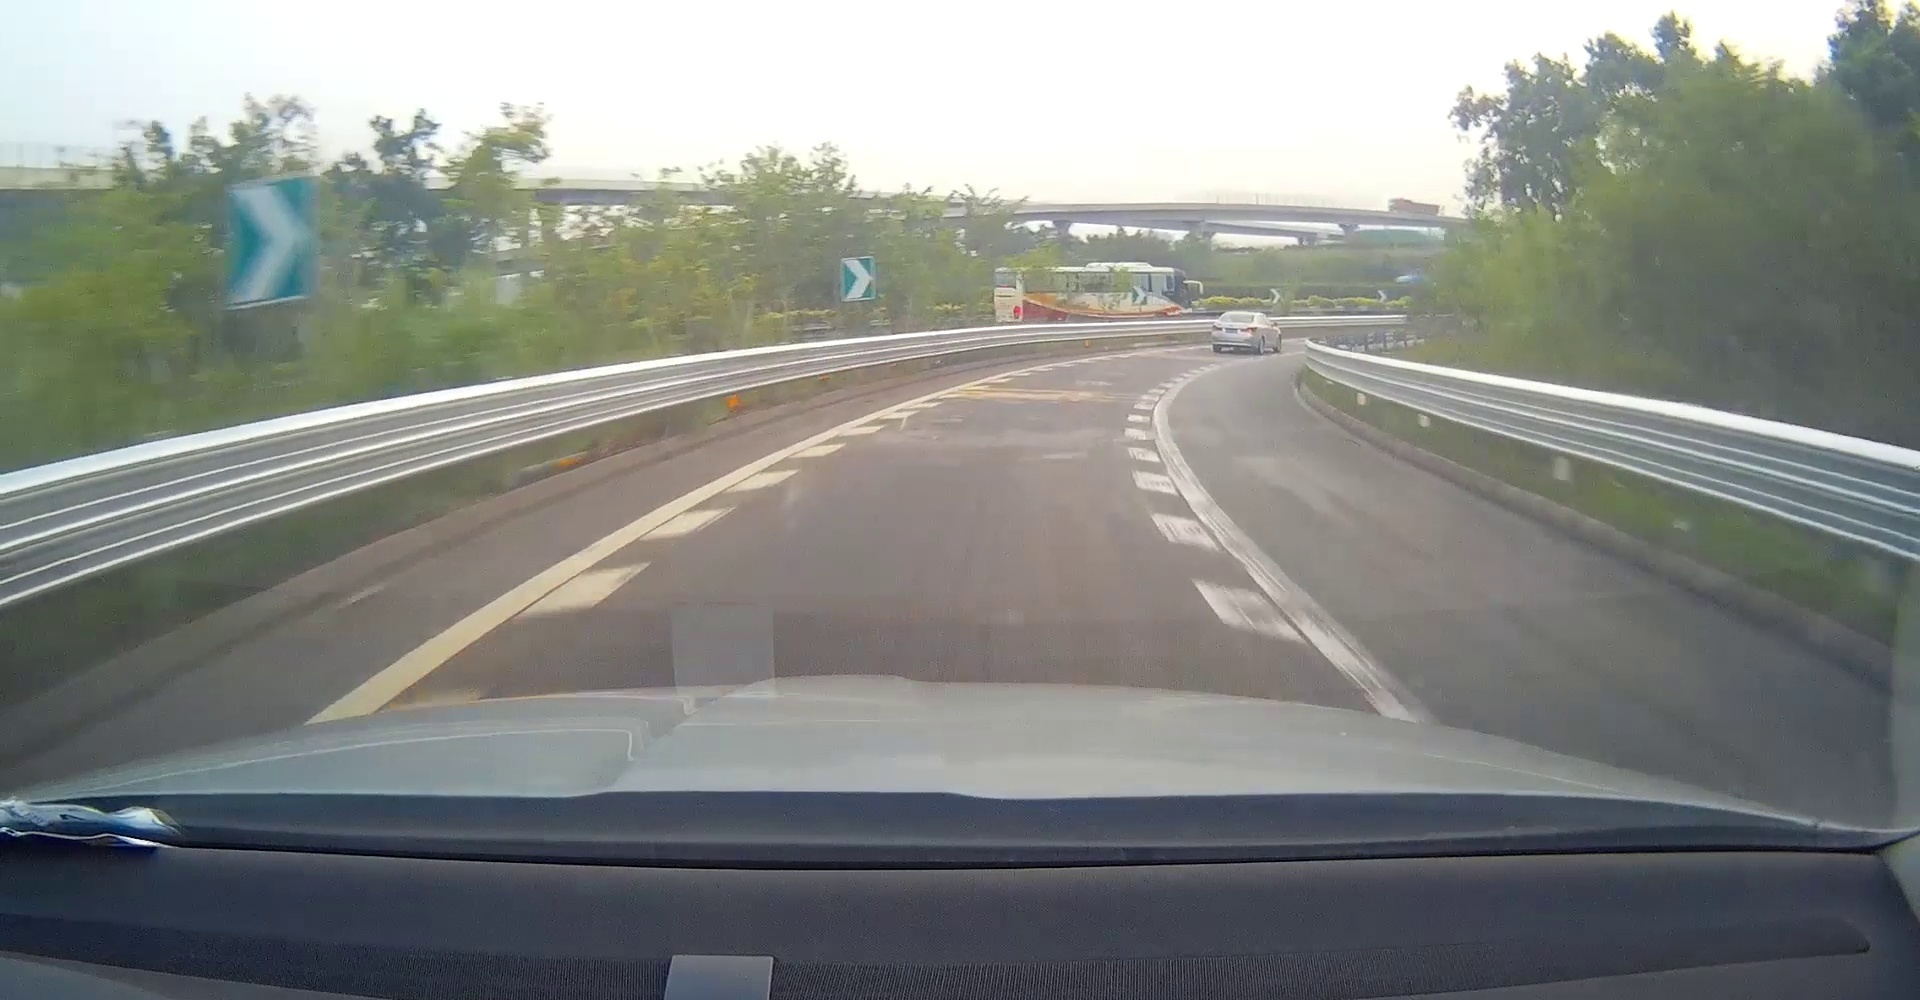L_light: (1211, 325, 1222, 331)
R_light: (1244, 326, 1256, 332)
T_light: (1230, 319, 1241, 324)
day-no: (1211, 311, 1257, 355)
